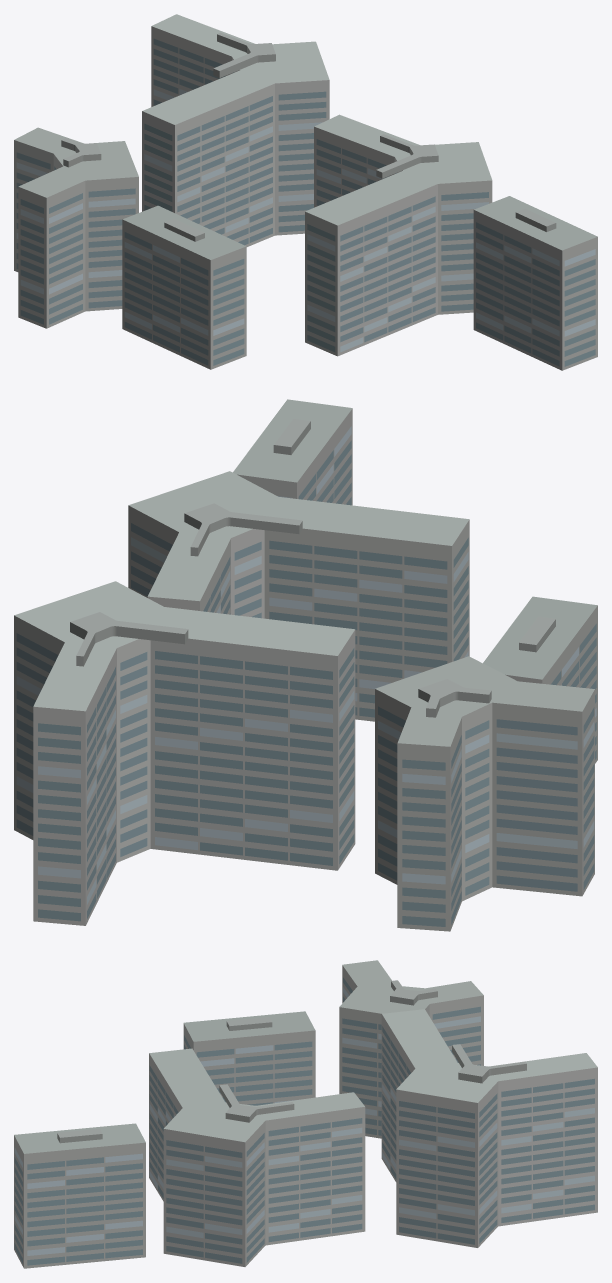
The model's file is apt-a15605003.glb.
3 views of the same model, one above another, from view 1: azimuth 30°, elevation 25°; view 2: azimuth 150°, elevation 25°; view 3: azimuth 270°, elevation 25° (orthographic). The views are drawn at different scales.
Visible parts, largest first — view 1: apt-a15605003; view 2: apt-a15605003; view 3: apt-a15605003.
Part boxes in pixels (x1=…): apt-a15605003: x1=14, y1=14, x2=597, y2=370; apt-a15605003: x1=14, y1=399, x2=597, y2=931; apt-a15605003: x1=14, y1=960, x2=597, y2=1268.
Bounding box in the file's own units: 111 × 43 × 150.
